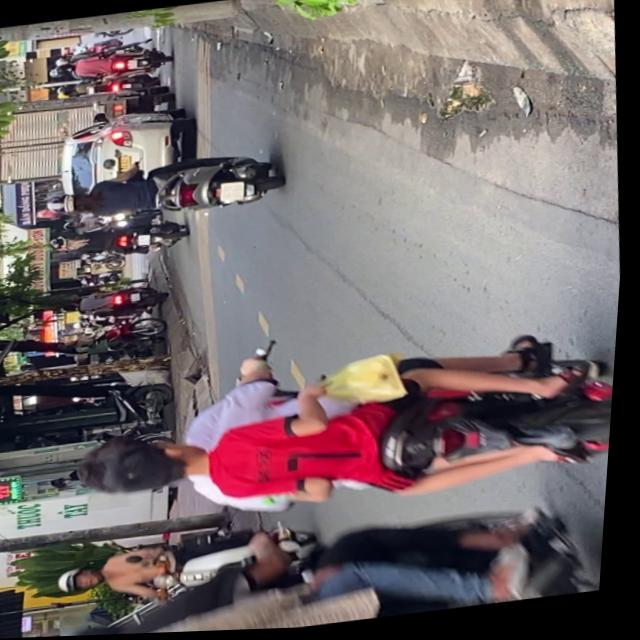helmet: (62, 564, 113, 596), (45, 191, 93, 219), (59, 621, 142, 637)
licenseplate: (62, 312, 623, 546), (7, 489, 613, 639), (41, 147, 289, 233)
motorcyclist: (103, 435, 236, 500)
nohelmet: (220, 182, 248, 204)
